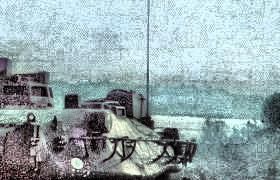tanks: (1, 59, 197, 180)
